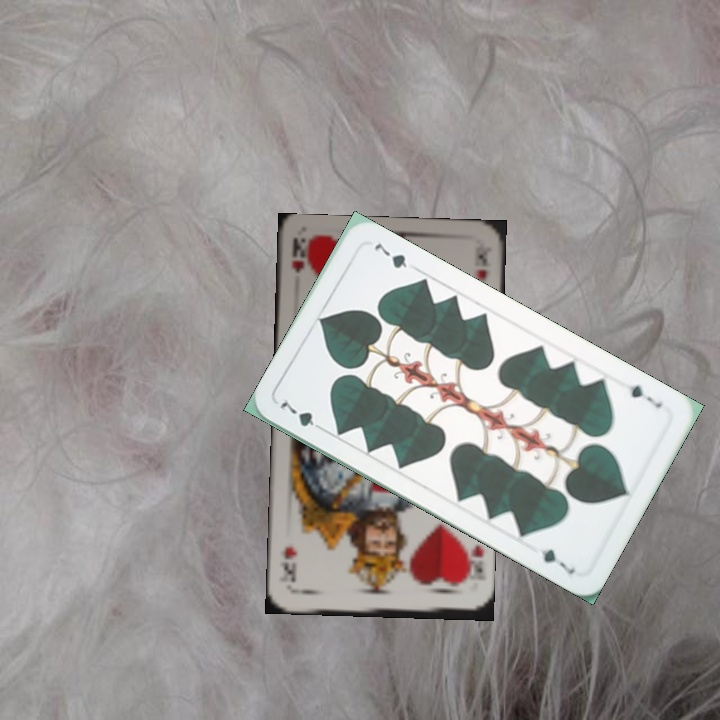G7: (276, 393, 328, 435), (626, 380, 664, 411)
HK: (459, 540, 487, 585), (288, 238, 311, 276)
